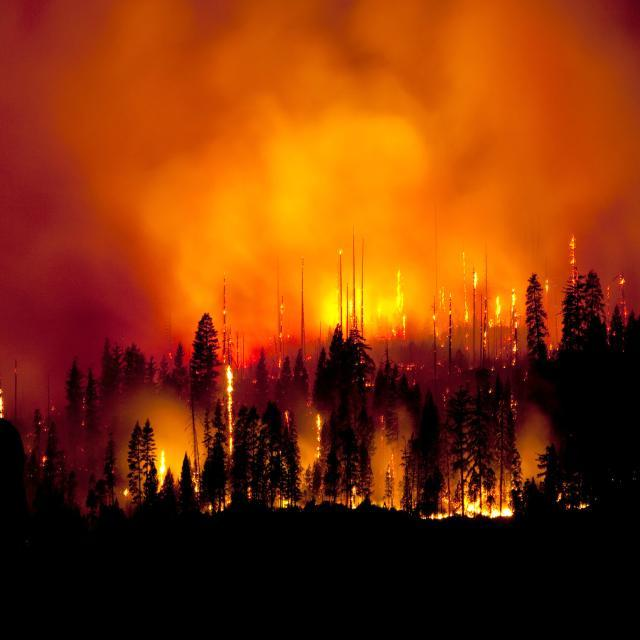Fire: (117, 255, 546, 520)
Smoke: (0, 0, 618, 309)
